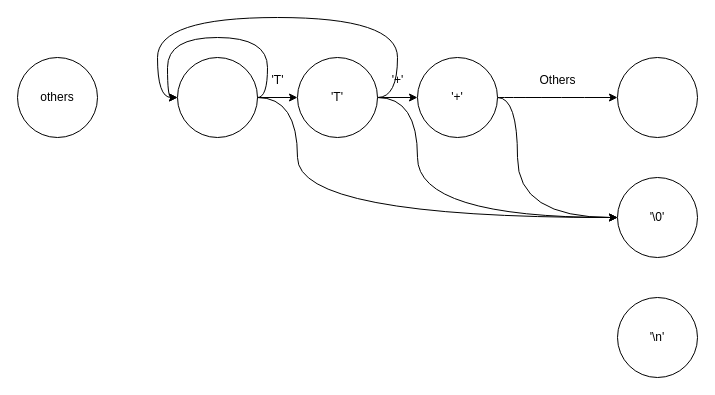
This 715x395 diagram has some shape labels left out. The shapes that lost their labels are listed below. From the top down, each one's centre as x and y in pixels, then its label:
(x=217, y=97): 'A'
(x=657, y=97): ATProc
